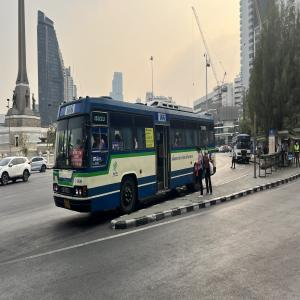BMTA-bus: (52, 97, 216, 218)
Bus Line Number: (65, 105, 75, 113), (158, 111, 166, 121)
Bus Side Number: (74, 178, 83, 185)
Destination Sign: (70, 148, 82, 168)
